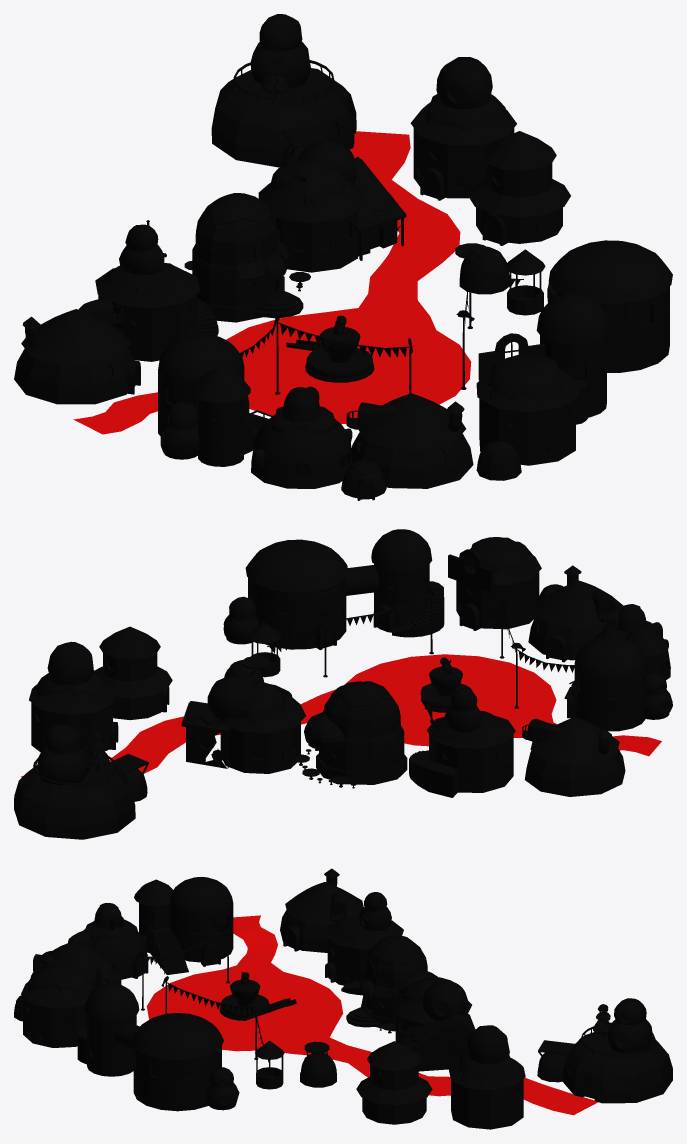
File: Neighborhood_IceBreakerAlleyLocked.glb
3 renders of one model, top to bottom at view 1: azimuth 30°, elevation 25°; view 2: azimuth 150°, elevation 25°; view 3: azimuth 270°, elevation 25°, orthographic. The views are drawn at different scales.
Visible parts, largest first — view 1: Neighborhood_IceBreakerAlleyLocked_pasted__IceBreakerAlleyV3, Object_Road; view 2: Neighborhood_IceBreakerAlleyLocked_pasted__IceBreakerAlleyV3, Object_Road; view 3: Neighborhood_IceBreakerAlleyLocked_pasted__IceBreakerAlleyV3, Object_Road.
Part boxes in pixels (x1,y1,x2,y2): Neighborhood_IceBreakerAlleyLocked_pasted__IceBreakerAlleyV3: (14,14,672,500); Object_Road: (73,131,471,434); Neighborhood_IceBreakerAlleyLocked_pasted__IceBreakerAlleyV3: (14,529,672,839); Object_Road: (21,654,661,777); Neighborhood_IceBreakerAlleyLocked_pasted__IceBreakerAlleyV3: (14,868,672,1129); Object_Road: (146,915,597,1115).
Size of the model in its own units: 42.03 by 8.45 by 54.31.
